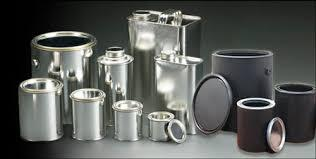Tin: (5, 1, 316, 155)
